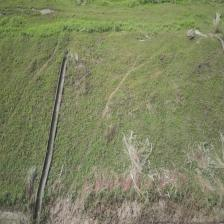slope drain: (32, 47, 69, 224)
